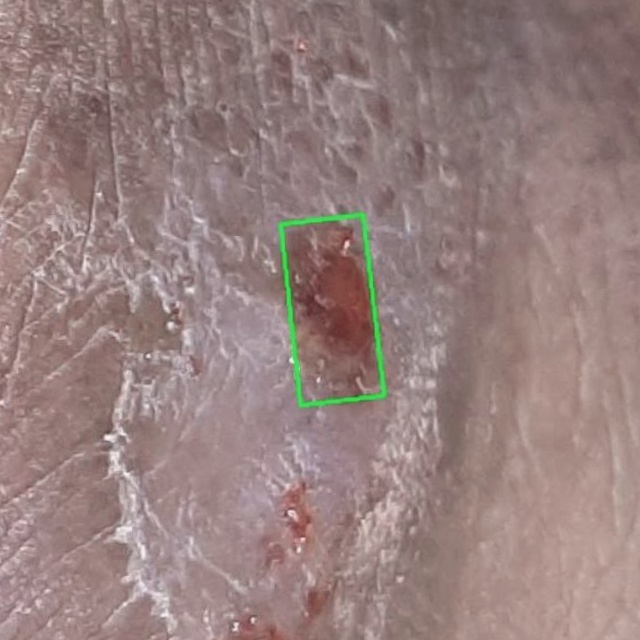Contact Dermatitis: (280, 215, 383, 405)
